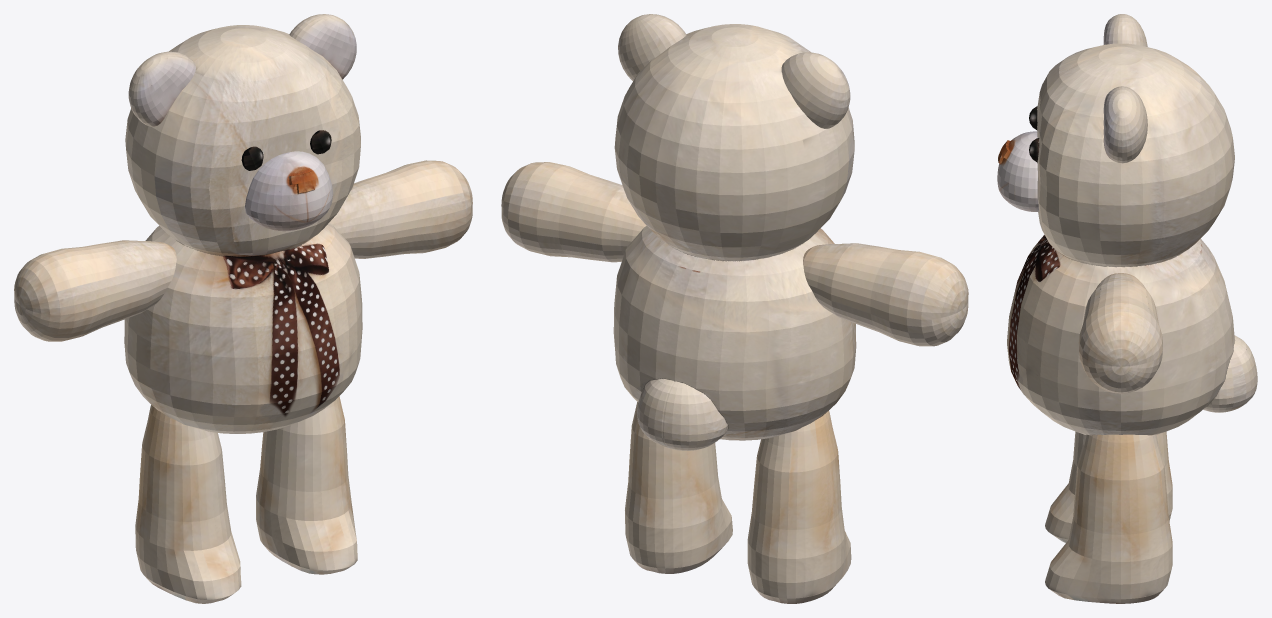
Rendered from Teddy Bear.fbx.
3 renders of one model, left to right at view 1: azimuth 30°, elevation 25°; view 2: azimuth 150°, elevation 25°; view 3: azimuth 270°, elevation 25°, orthographic. The views are drawn at different scales.
Visible parts, largest first — view 1: Sphere; view 2: Sphere; view 3: Sphere.
Part boxes in pixels (left/top/right/bottom): Sphere: left=14, top=14, right=472, bottom=603; Sphere: left=501, top=14, right=968, bottom=603; Sphere: left=997, top=14, right=1257, bottom=603.
Bounding box in the file's own units: 220 × 249 × 115.
1 material, 1 textured.
